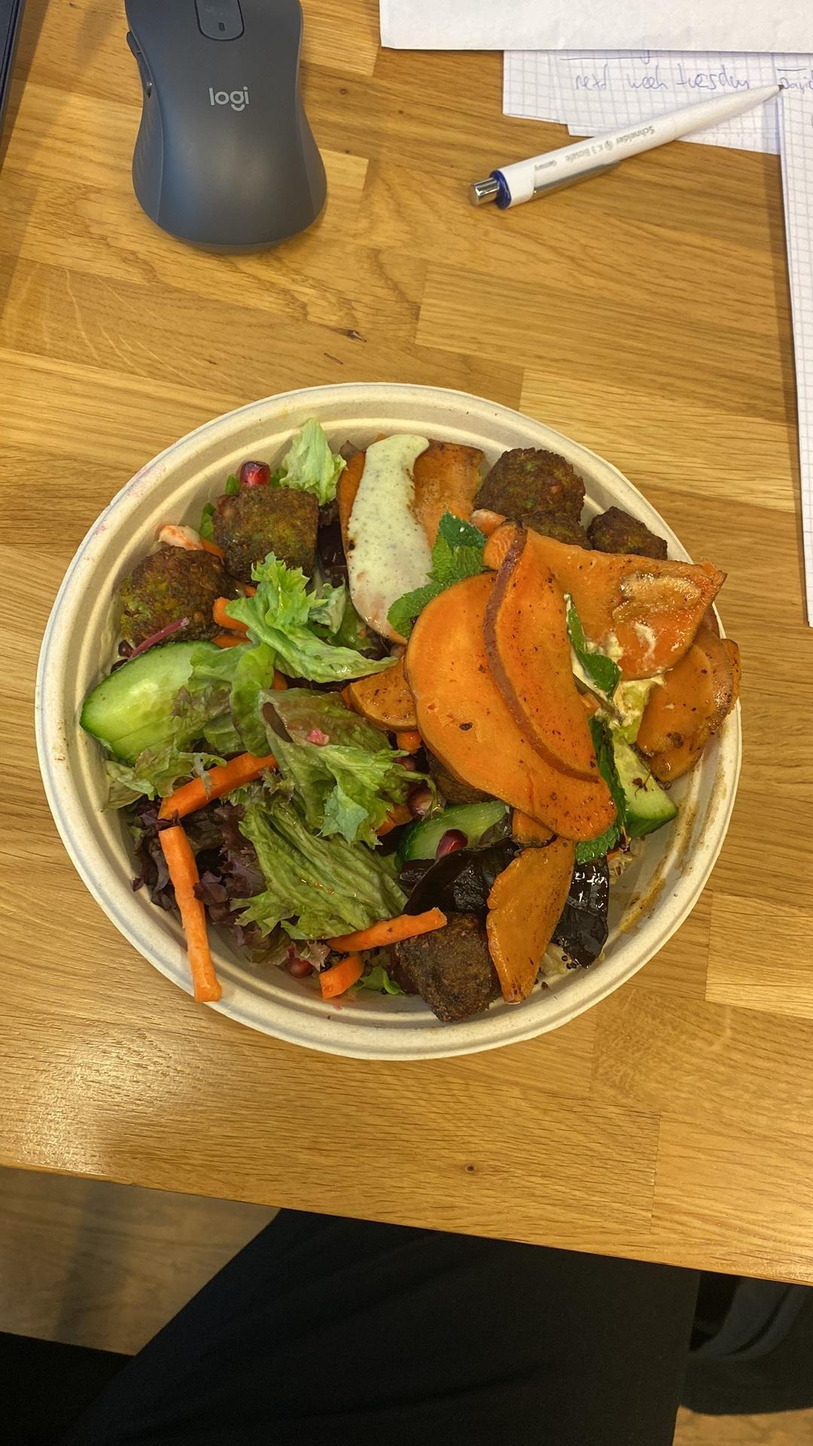carrot: (155, 824, 227, 1005), (159, 750, 276, 825), (315, 906, 443, 949)
cucumber: (81, 633, 228, 762), (609, 737, 681, 833)
lettuce: (206, 770, 410, 969), (223, 562, 393, 682), (259, 729, 412, 836), (276, 415, 357, 493)
potato: (407, 580, 617, 839), (483, 525, 749, 684), (615, 608, 754, 779), (486, 839, 575, 1015)
